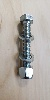FinishedAssembly: (17, 11, 38, 82)
